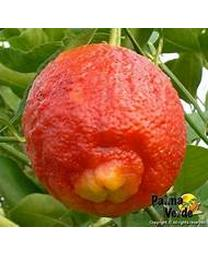lemon: (20, 45, 187, 219)
